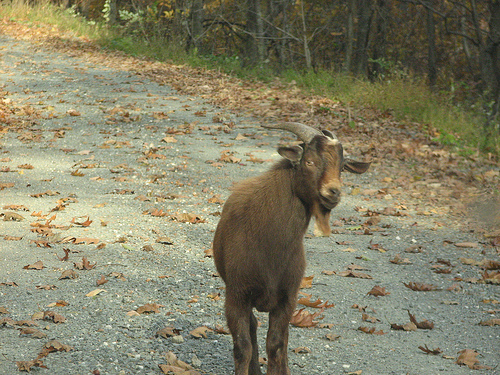goat: (213, 120, 372, 375)
